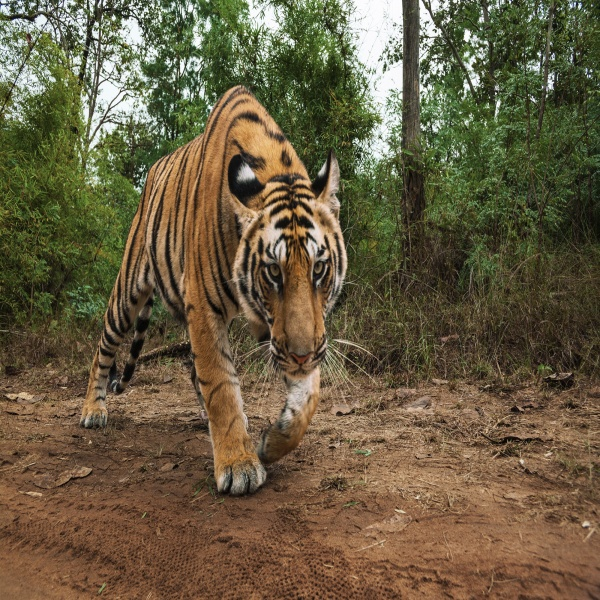Tiger: (80, 82, 357, 500)
